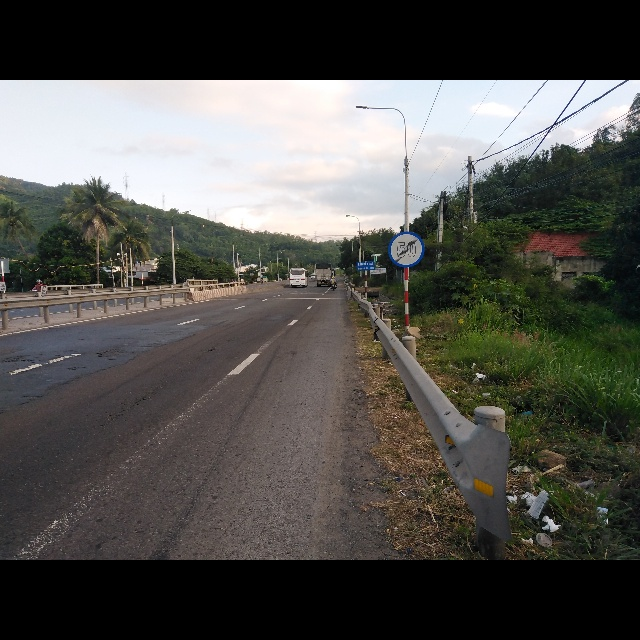Hết hạn chế tốc độ tối đa 50km/h: (385, 229, 422, 268)
